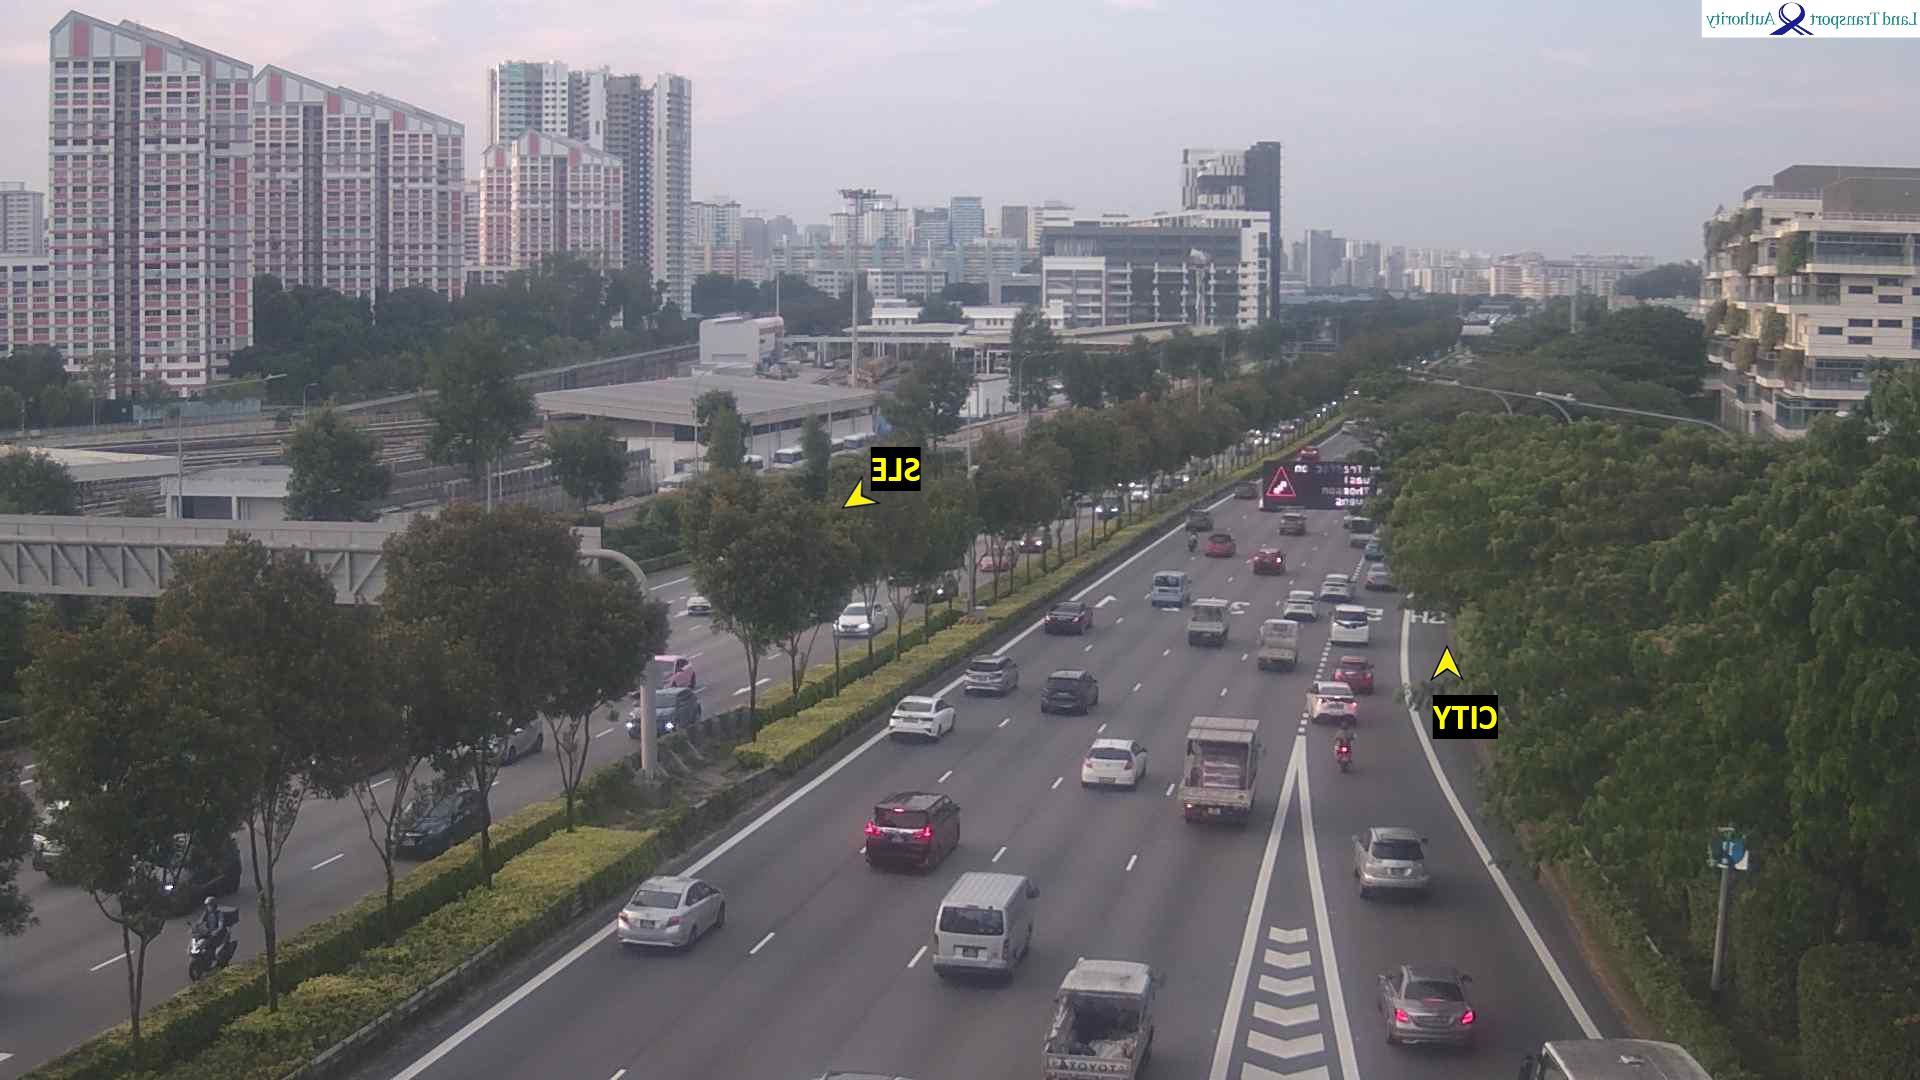cars: (1043, 955, 1158, 1077), (120, 828, 243, 916), (1377, 961, 1477, 1047), (617, 874, 727, 951), (864, 789, 963, 872), (20, 791, 120, 873), (1519, 1036, 1714, 1077), (390, 783, 492, 858), (1352, 824, 1433, 898), (626, 686, 703, 738), (622, 650, 699, 700), (1081, 736, 1150, 789), (480, 713, 545, 765), (889, 694, 957, 738), (1040, 669, 1100, 713), (1305, 679, 1360, 724), (964, 651, 1021, 694), (833, 600, 889, 636), (1044, 599, 1093, 634), (1331, 603, 1373, 644), (1149, 568, 1191, 608), (1335, 654, 1375, 694), (913, 570, 960, 603), (972, 539, 1019, 572), (1013, 518, 1054, 554), (1283, 588, 1319, 622), (1250, 545, 1286, 574), (1346, 516, 1377, 546), (1321, 572, 1354, 599), (1367, 562, 1396, 589), (1207, 531, 1237, 556), (1279, 510, 1307, 534), (1127, 483, 1153, 506), (687, 593, 713, 615), (1187, 510, 1215, 530), (1096, 500, 1121, 520), (1236, 479, 1259, 498), (1149, 479, 1175, 495), (1113, 473, 1137, 491), (1337, 418, 1360, 435), (1300, 444, 1321, 462), (1249, 434, 1270, 448), (1262, 427, 1284, 439), (1279, 421, 1296, 433), (1245, 426, 1262, 438)
motorcycle: (186, 897, 243, 982), (1335, 727, 1357, 771), (1183, 529, 1201, 554)
trucks: (932, 869, 1040, 980), (1180, 713, 1265, 824), (1257, 617, 1302, 670), (1187, 596, 1232, 646)
